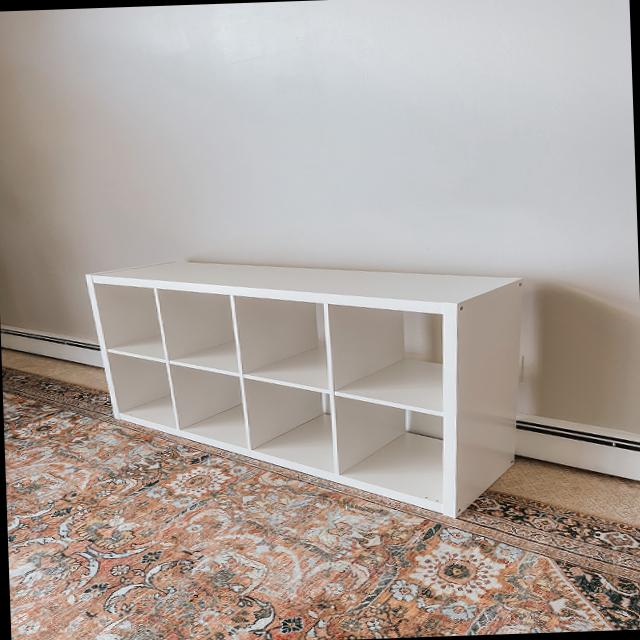Shelf: (75, 240, 568, 540)
